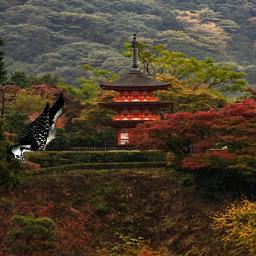Woodpecker: (6, 90, 65, 164)
